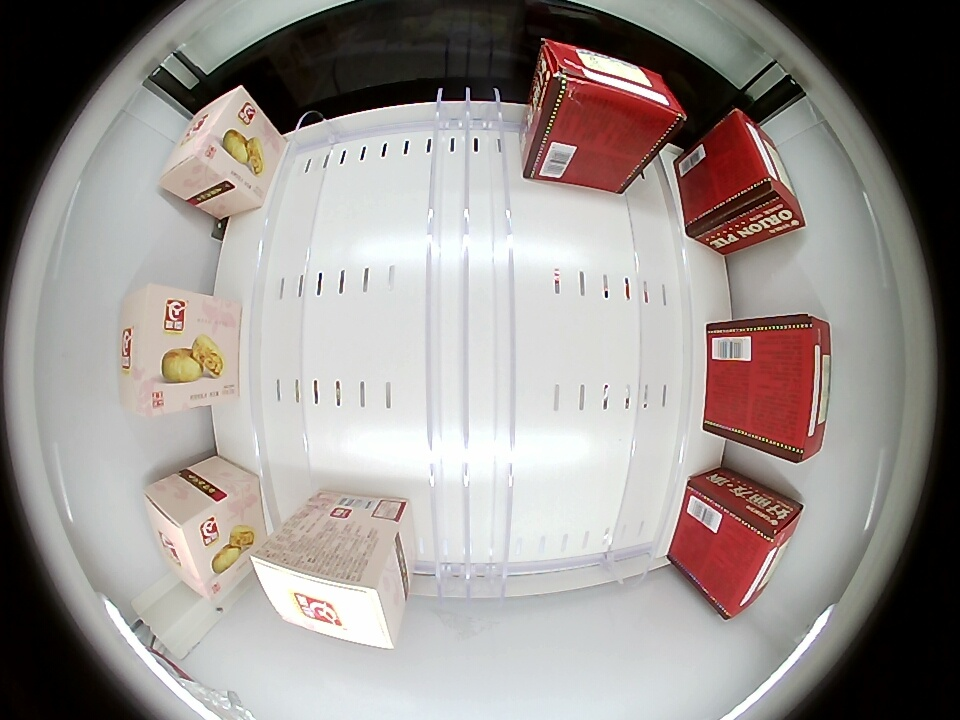haoliyou: (524, 42, 682, 169), (739, 315, 829, 464), (703, 492, 804, 620), (708, 108, 806, 235)
rousongbing: (250, 528, 403, 650), (158, 86, 263, 210), (143, 472, 241, 604), (121, 283, 213, 417)
